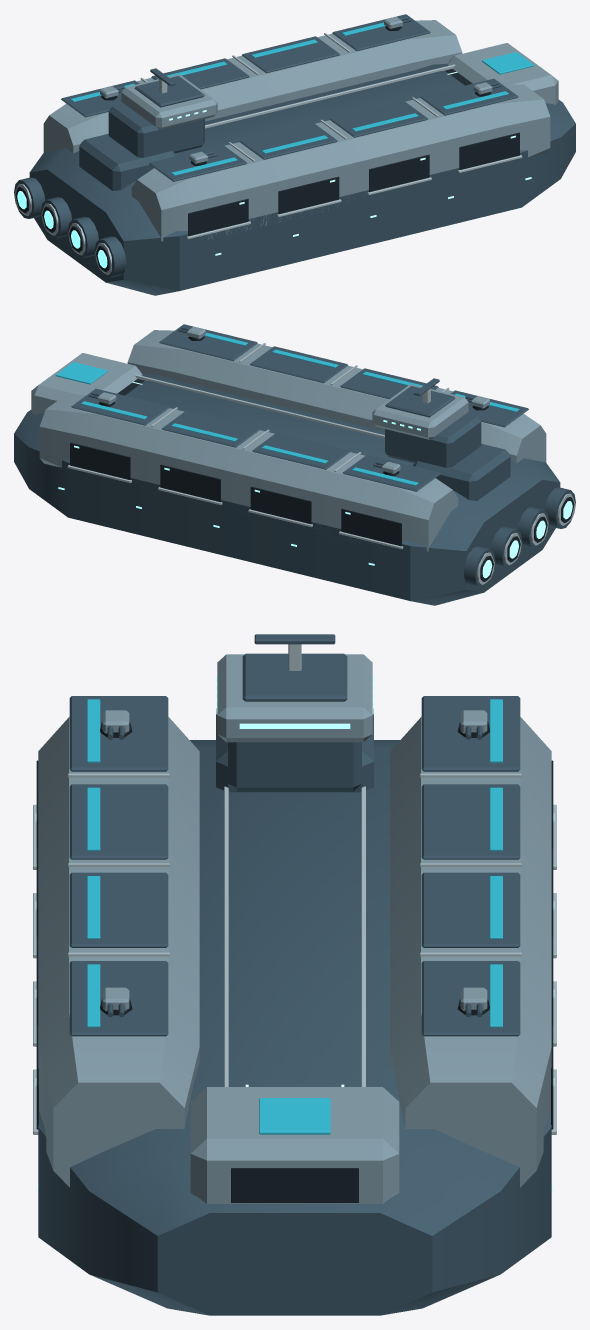
The model's file is carrier.glb.
The picture shows the model from 3 angles, top to bottom: view 1: azimuth 30°, elevation 25°; view 2: azimuth 150°, elevation 25°; view 3: azimuth 270°, elevation 25°; orthographic projection. The views are drawn at different scales.
Visible parts, largest first — view 1: Carrier / aft engineering block, Carrier / armored prow, Carrier / bow aperture, Carrier / bay sill, Carrier / bow identifier, Bridge / window.006; view 2: Carrier / aft engineering block, Carrier / armored prow, Carrier / bow aperture, Carrier / bay sill, Carrier / bow identifier, Bridge / window.006; view 3: Carrier / aft engineering block, Carrier / armored prow, Carrier / bow identifier, Carrier / bay sill, Carrier / bow aperture, Bridge / window.006.
Part boxes in pixels (box(x1,y1,x2,y2)): Carrier / aft engineering block: box(14, 14, 575, 295); Carrier / armored prow: box(43, 17, 558, 241); Carrier / bow aperture: box(15, 26, 519, 271); Carrier / bay sill: box(14, 33, 522, 274); Carrier / bow identifier: box(70, 22, 534, 175); Bridge / window.006: box(17, 71, 531, 268); Carrier / aft engineering block: box(14, 324, 575, 605); Carrier / armored prow: box(31, 327, 546, 551); Carrier / bow aperture: box(70, 336, 574, 581); Carrier / bay sill: box(67, 343, 575, 584); Carrier / bow identifier: box(55, 332, 519, 485); Bridge / window.006: box(58, 381, 572, 578); Carrier / aft engineering block: box(38, 634, 551, 1315); Carrier / armored prow: box(38, 654, 551, 1203); Carrier / bow identifier: box(87, 699, 502, 1134); Carrier / bay sill: box(33, 644, 556, 1134); Carrier / bow aperture: box(36, 722, 553, 1202); Bridge / window.006: box(35, 674, 554, 1192).
Size of the model in its own units: 37.11 by 13.24 by 17.56.
